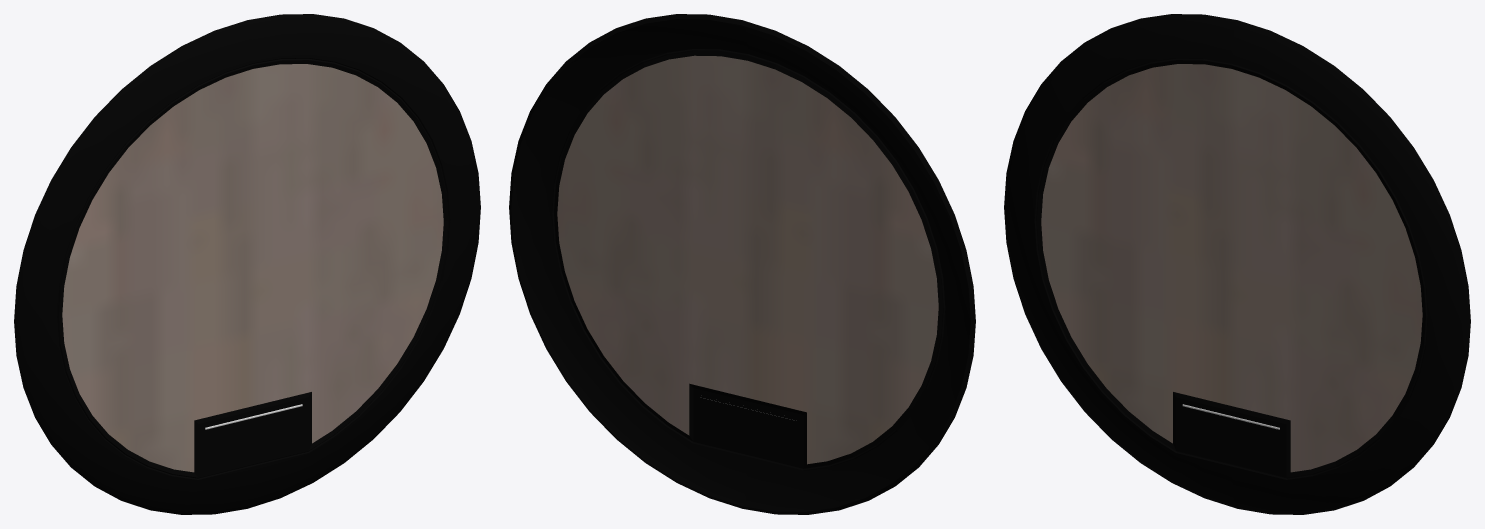
File: SM_Bodenspot_04.obj
3 views of the same model, side by side, from view 1: azimuth 30°, elevation 25°; view 2: azimuth 150°, elevation 25°; view 3: azimuth 330°, elevation 25° (orthographic).
Parts seen in each view (by area): view 1: SM_Bodenspot_04; view 2: SM_Bodenspot_04; view 3: SM_Bodenspot_04.
Part boxes in pixels (x1=…): SM_Bodenspot_04: x1=14, y1=14, x2=480, y2=514; SM_Bodenspot_04: x1=509, y1=14, x2=975, y2=514; SM_Bodenspot_04: x1=1004, y1=14, x2=1470, y2=514.
Size of the model in its own units: 0.235 by 0.235 by 0.00677.
Materials: 3 (2 with a texture image).
